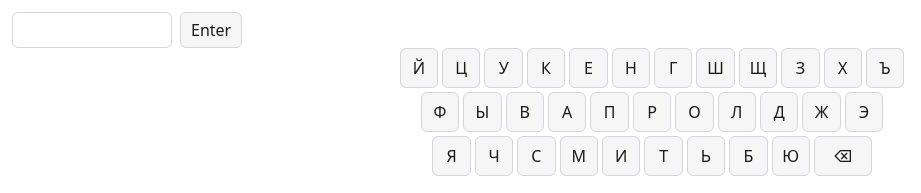
on-screen keyboard types letters
This screenshot has width=921, height=193.
Click the button with test id "kb-с" at (536, 156), box [517,136,556,176]
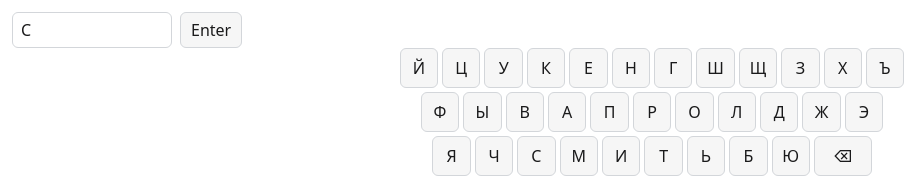
Click the button with test id "kb-е" at (588, 68), box [569,48,608,88]
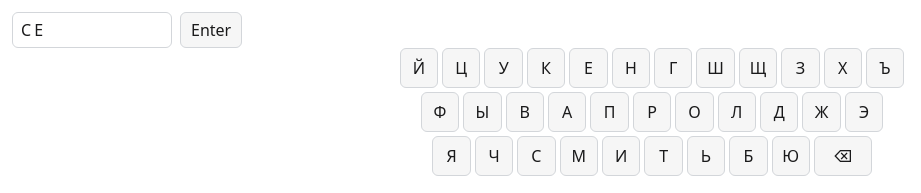
Result: the field with test id "guess-input" holds "се" at [12,12,172,48]
